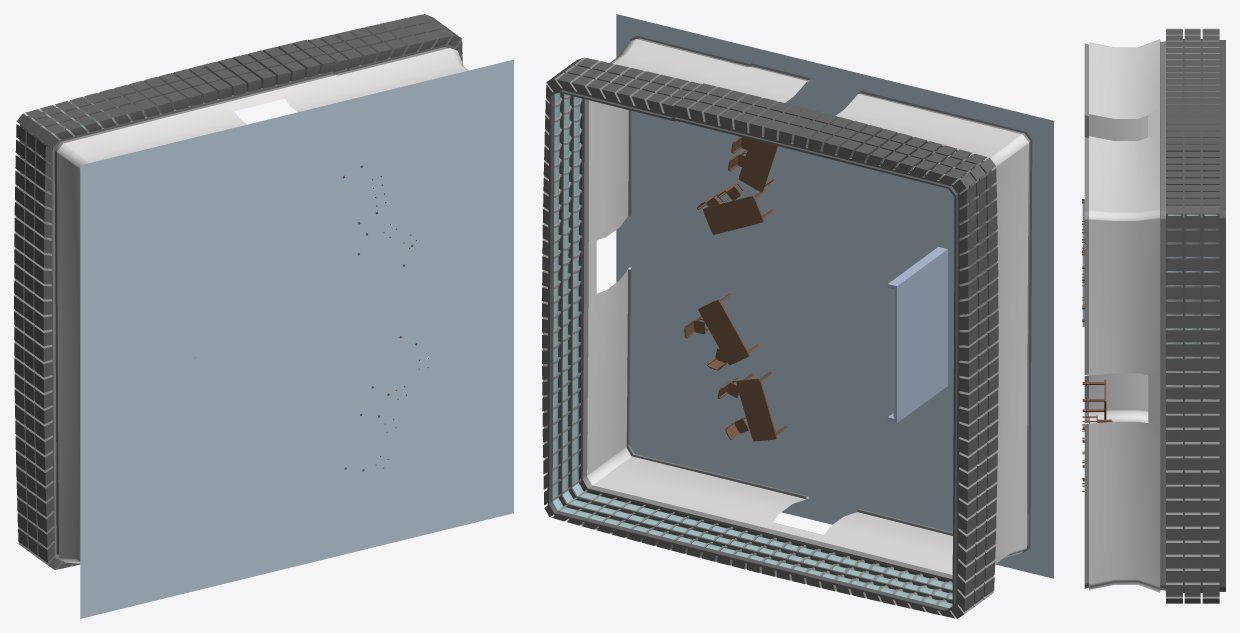
File: m_SmallRoom_3_NoDoors_Conference.fbx
The picture shows the model from 3 angles, left to right: view 1: azimuth 30°, elevation 25°; view 2: azimuth 150°, elevation 25°; view 3: azimuth 270°, elevation 25°; orthographic projection. The views are drawn at different scales.
Parts seen in each view (by area): view 1: m_smallRoom001.002, Plane.008; view 2: Plane.008, m_smallRoom001.002, Cube.012, m_table.008, m_table.003, m_table.004, m_table.017; view 3: Plane.008, m_table.003, Cube.012.
Part boxes in pixels (x1,y1,x2,y2): m_smallRoom001.002: (80, 59, 513, 618); Plane.008: (14, 14, 468, 569); Plane.008: (542, 36, 1032, 618); m_smallRoom001.002: (616, 14, 1053, 578); Cube.012: (887, 247, 947, 422); m_table.008: (736, 371, 787, 441); m_table.003: (698, 293, 759, 365); m_table.004: (702, 189, 773, 234); m_table.017: (738, 139, 777, 192); Plane.008: (1084, 28, 1225, 603); m_table.003: (1082, 379, 1106, 428); Cube.012: (1082, 201, 1084, 326).
Bounding box in the file's own units: 1515 × 1515 × 479.
